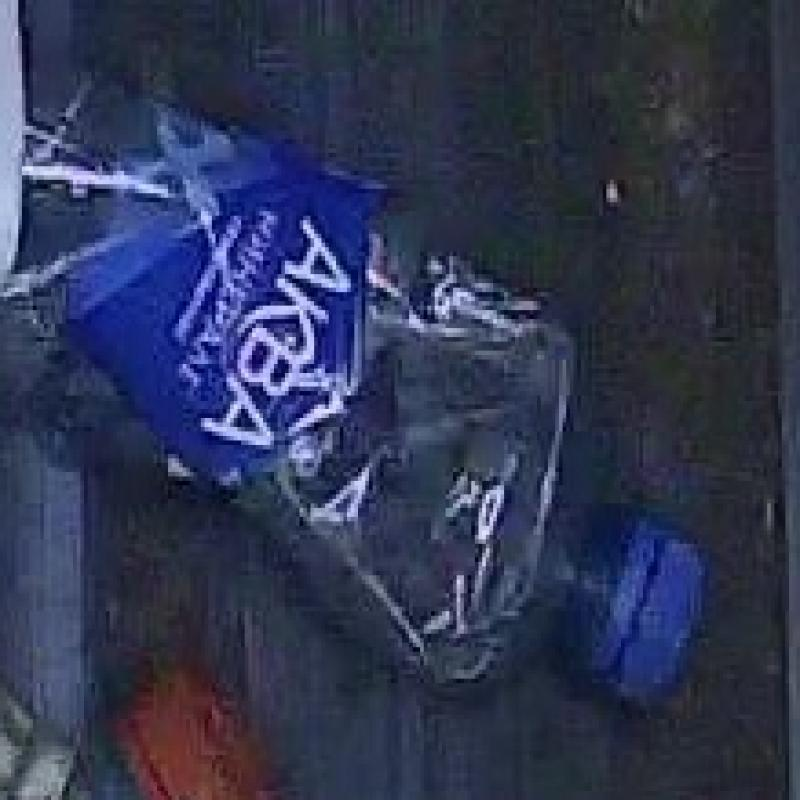botella: (4, 34, 714, 715)
